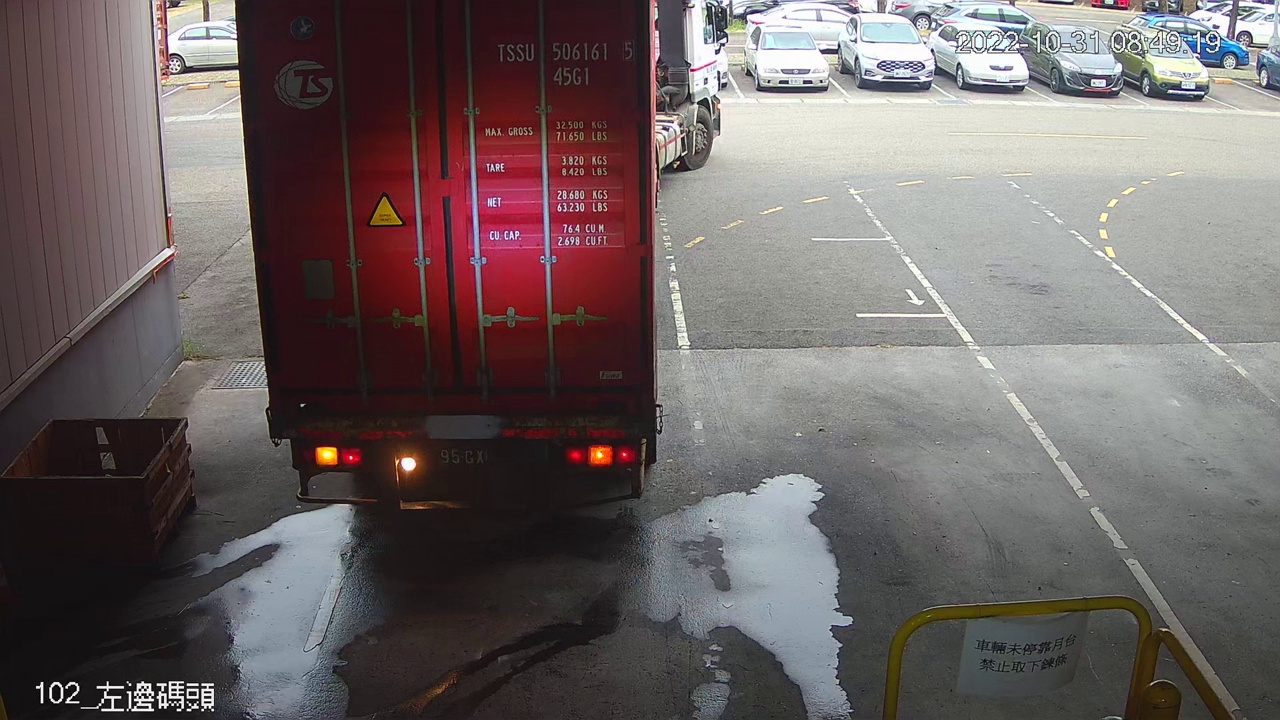container: (489, 35, 641, 92)
